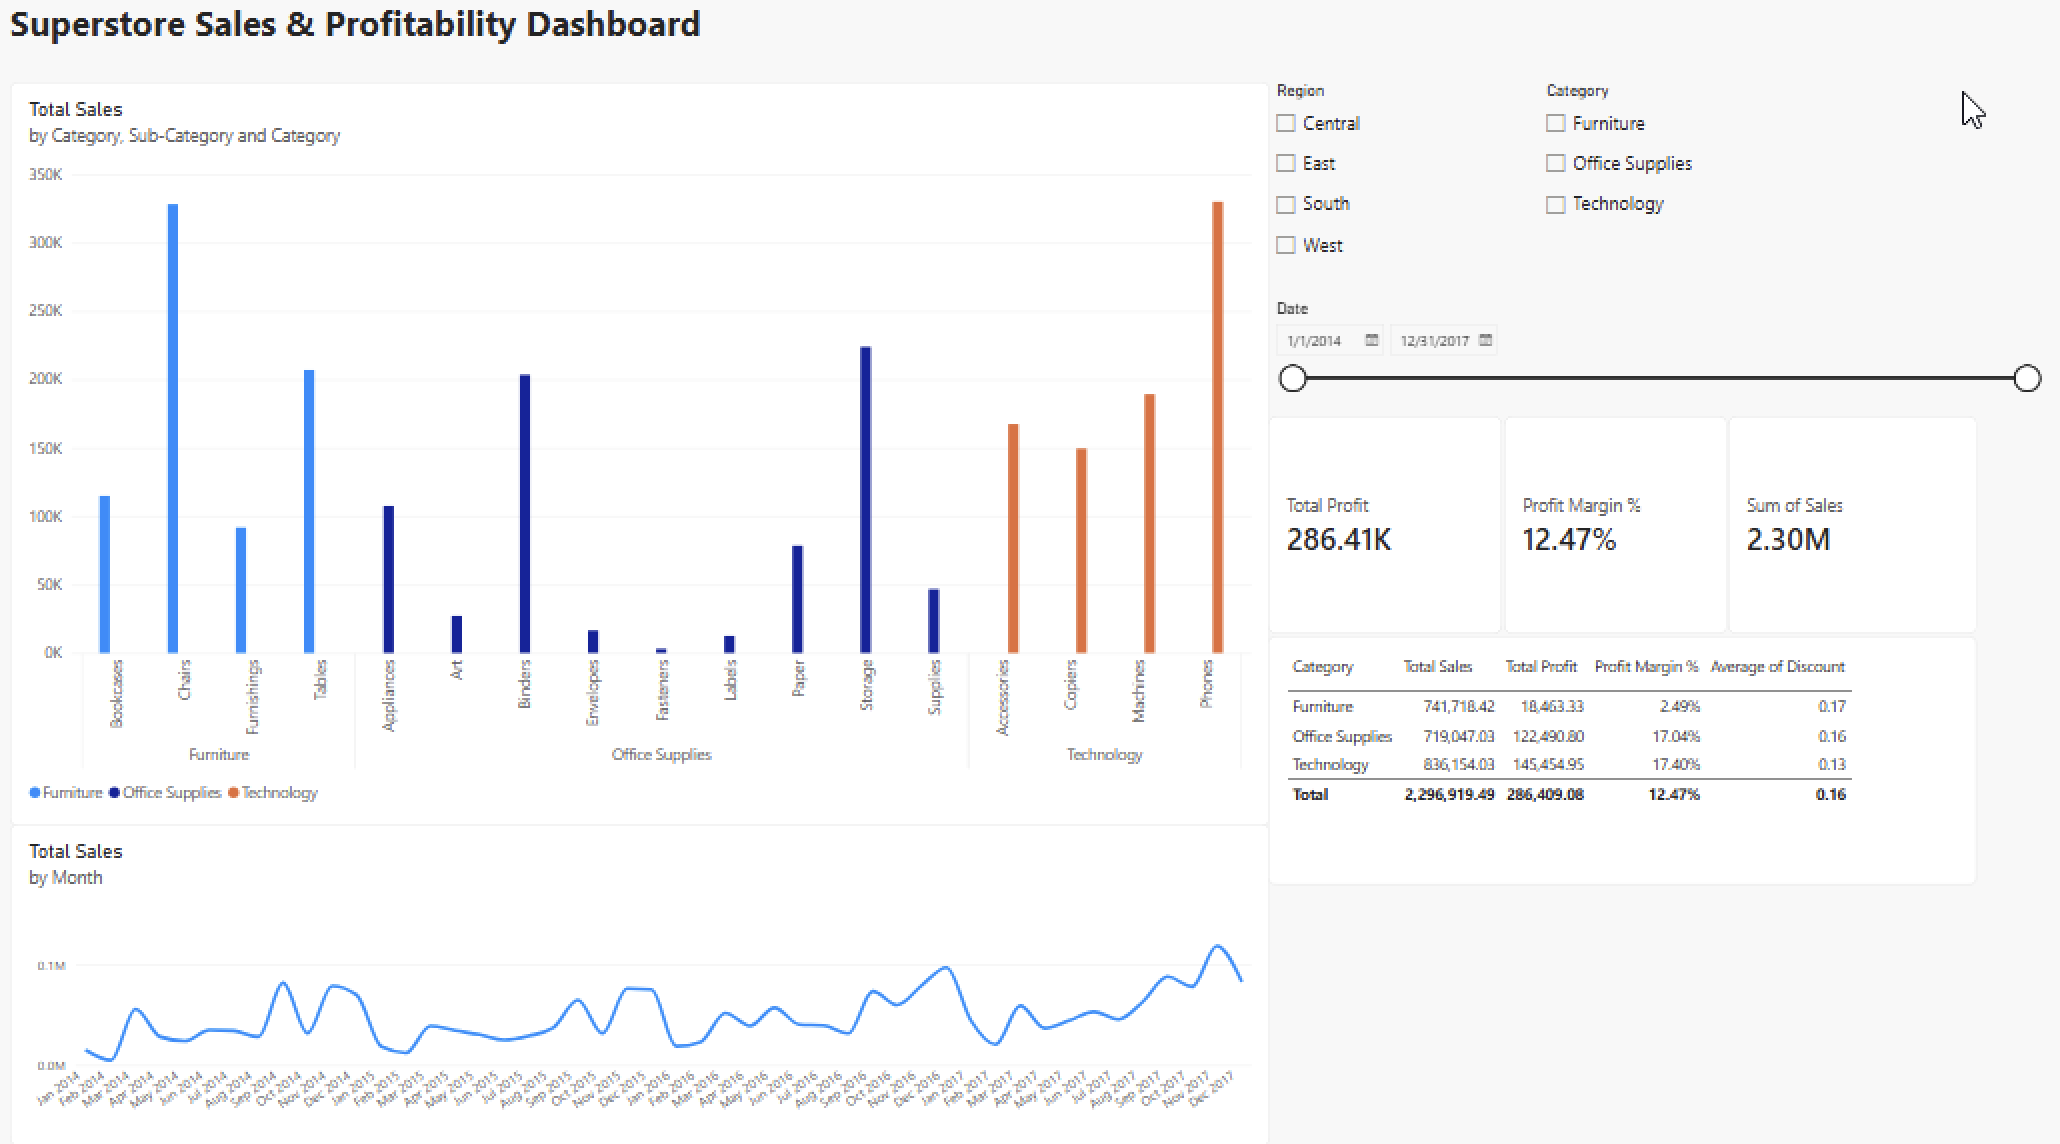

The dashboard page shown, as its layout file describes it:
{"tool":"powerbi","page":{"name":"Page 1","canvas":[1920,1080],"ordinal":0},"visuals":[{"type":"clusteredColumnChart","fields":{"Category":["Sample - Superstore.Category","Sample - Superstore.Sub-Category"],"Series":["Sample - Superstore.Category"],"Y":["Sample - Superstore.Total Sales"]},"box":[8.8,85.5,1172.6,692.6],"z":0},{"type":"slicer","fields":{"Values":["Sample - Superstore.Region"]},"box":[1181.4,85.5,249.9,203.8],"z":2},{"type":"cardVisual","fields":{"Data":["Sum(Sample - Superstore.Sales)"]},"box":[1608.8,396.7,232.3,203.8],"z":3},{"type":"cardVisual","fields":{"Data":["Sample - Superstore.Total Profit"]},"box":[1181.4,396.7,218.6,203.8],"z":4},{"type":"cardVisual","fields":{"Data":["Sample - Superstore.Profit Margin %"]},"box":[1400.5,396.7,208.2,203.8],"z":5},{"type":"lineChart","fields":{"Category":["DateTable.Month"],"Y":["Sample - Superstore.Total Sales"]},"box":[8.8,775.9,1172.6,300.3],"z":6},{"type":"slicer","fields":{"Values":["Sample - Superstore.Category"]},"box":[1431.2,85.5,219.2,203.8],"z":7},{"type":"slicer","fields":{"Values":["DateTable.Date"]},"box":[1181.4,289.3,723.3,171],"z":8},{"type":"tableEx","fields":{"Values":["Sample - Superstore.Category","Sample - Superstore.Total Sales","Sample - Superstore.Total Profit","Sample - Superstore.Profit Margin %","Avg(Sample - Superstore.Discount)"]},"box":[1181.4,600.5,659.7,232.3],"z":9},{"type":"textbox","box":[8.8,6.6,672.9,48.2],"z":10}]}

Visuals, with their boxes in screenshot pixels (x1, y1, x2, y2), scaled from the page's 1920x1080 canvas onto the 2060x1144 screenshot:
clusteredColumnChart - Sample - Superstore.Category x Sample - Superstore.Sub-Category: (9, 91, 1268, 824)
slicer - Sample - Superstore.Region: (1268, 91, 1536, 306)
cardVisual - Sum(Sample - Superstore.Sales): (1726, 420, 1975, 636)
cardVisual - Sample - Superstore.Total Profit: (1268, 420, 1502, 636)
cardVisual - Sample - Superstore.Profit Margin %: (1503, 420, 1726, 636)
lineChart - DateTable.Month x Sample - Superstore.Total Sales: (9, 822, 1268, 1140)
slicer - Sample - Superstore.Category: (1536, 91, 1771, 306)
slicer - DateTable.Date: (1268, 306, 2044, 488)
tableEx - Sample - Superstore.Category x Sample - Superstore.Total Sales: (1268, 636, 1975, 882)
textbox: (9, 7, 731, 58)
